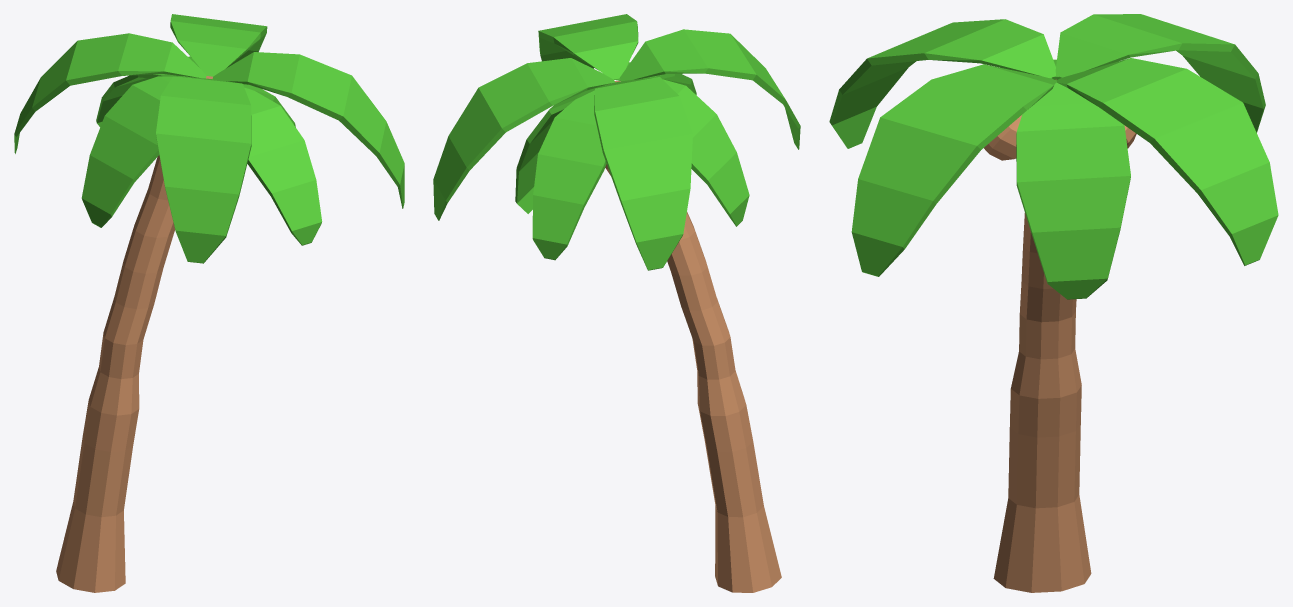
The picture shows the model from 3 angles, left to right: view 1: azimuth 30°, elevation 25°; view 2: azimuth 150°, elevation 25°; view 3: azimuth 270°, elevation 25°; orthographic projection. The views are drawn at different scales.
Visible parts, largest first — view 1: PALM4_2; view 2: PALM4_2; view 3: PALM4_2.
Boxes of the visible parts, box(x1,y1,x2,y2) form: PALM4_2: box(14, 14, 404, 592); PALM4_2: box(433, 14, 800, 592); PALM4_2: box(829, 14, 1278, 592).
Bounding box in the file's own units: 2.21 × 3.57 × 2.45.
